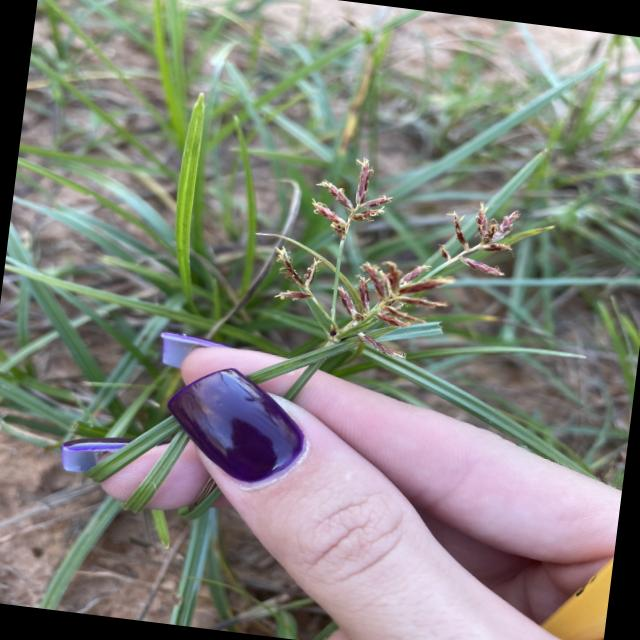cyperus: (248, 144, 558, 400)
